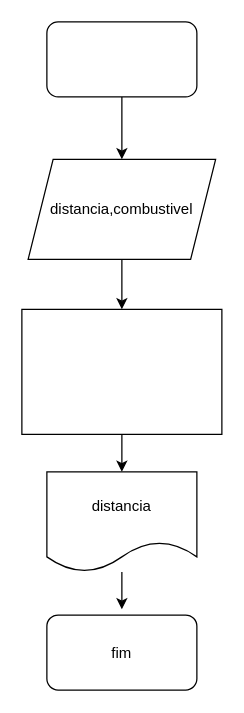
The diagram is 244 pixels wide and 713 high, and some of its shapes have lost their labels. The shapes that lost their labels are listed below. From the top down, each one's centre as x and y in pixels, then its label:
[121,59]: inicio
[121,371]: media=distancia/combustivel
